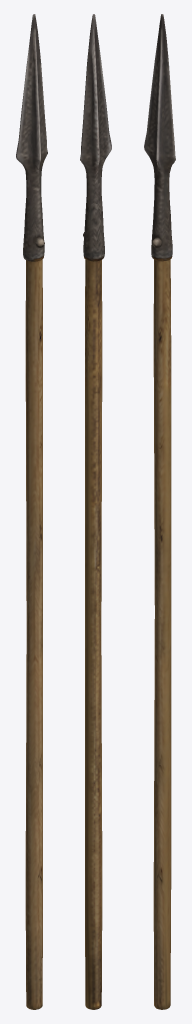
File: spear.glb
3 views of the same model, side by side, from view 1: azimuth 30°, elevation 25°; view 2: azimuth 210°, elevation 25°; view 3: azimuth 330°, elevation 25° (orthographic).
Visible parts, largest first — view 1: spear; view 2: spear; view 3: spear.
Boxes of the visible parts, <box> form: spear: <box>16,14,47,1009</box>; spear: <box>80,14,111,1009</box>; spear: <box>144,14,175,1009</box>.
Size of the model in its own units: 0.0768 by 2.27 by 0.0573.
1 material, 1 textured.
